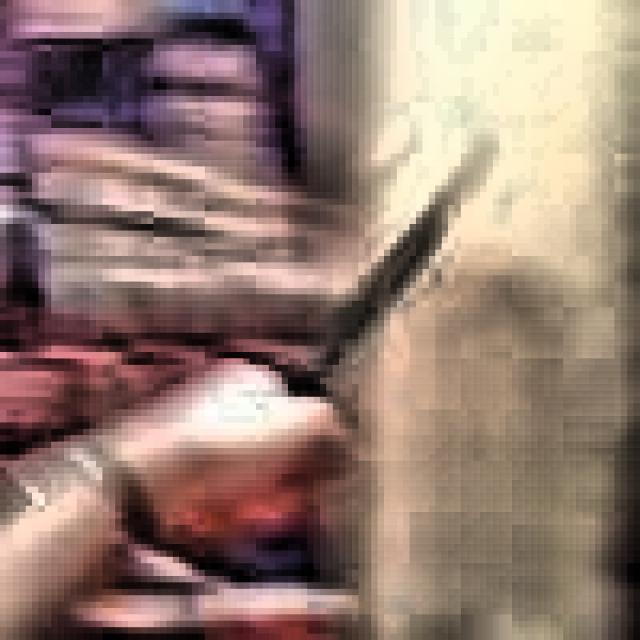knife: (278, 133, 493, 428)
